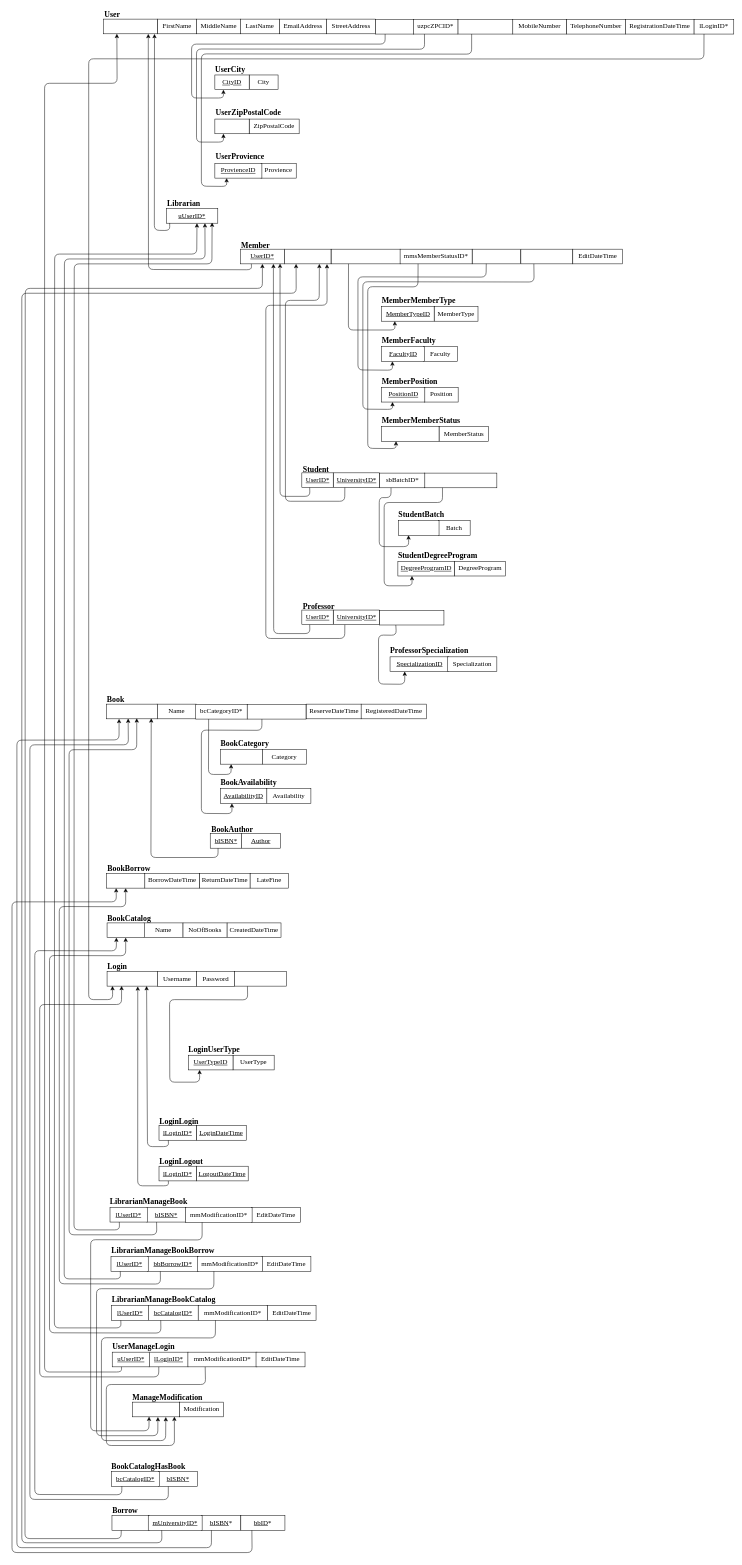
Image size: 742x1565. Some labels were removed from this diagram. The centre of each missing label's shape, as x and y in pixels:
"baAvailabilityID*" belongs at (276,711).
"BatchID" belongs at (418,527).
"BorrowID" belongs at (125,880).
"CatalogID" belongs at (125,930).
"CategoryID" belongs at (241,756).
"ISBN" belongs at (131,711).
"LoginID" belongs at (132,978).
"lutUserTypeID*" belongs at (260,978).
"MemberStatusID" belongs at (410,433).
"mfFacultyID*" belongs at (496,256).
"mmtMemberTypeID*" belongs at (365,256).
"ModificationID" belongs at (156,1409).
"mpPositionID*" belongs at (546,256).
"mUserID*" belongs at (130,1522).
"psSpecializationID*" belongs at (411,617).
"sdpDegreeProgramID*" belongs at (460,480).
"ucCityID*" belongs at (394,26).
"UniversityID" belongs at (307,256).
"upProvinceID*" belongs at (485,26).
"UserID" belongs at (130,26).
"ZPCID" belongs at (231,126).
